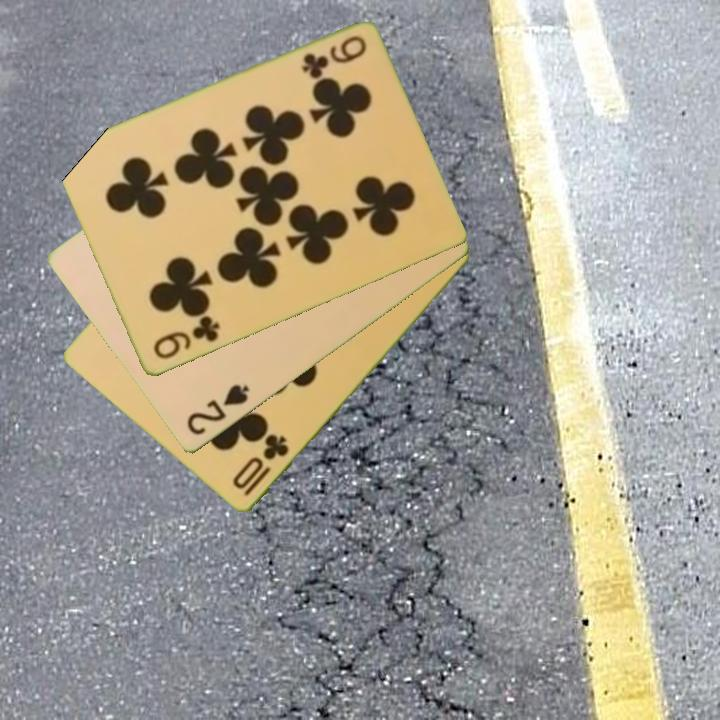10c: (229, 431, 292, 500)
2s: (183, 381, 252, 439)
9c: (149, 313, 222, 363), (298, 32, 370, 81)
